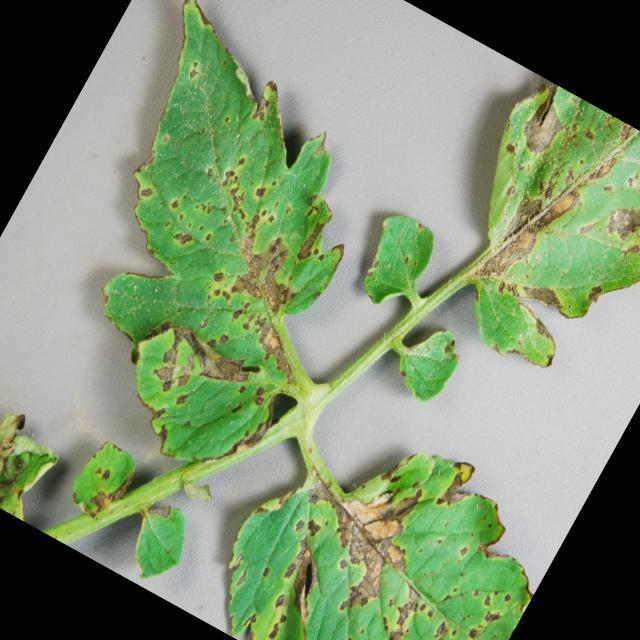Tomato Septoria spot leaf: (0, 0, 446, 503), (190, 367, 580, 640), (400, 70, 640, 414), (346, 204, 448, 318), (58, 431, 148, 533), (114, 492, 204, 593), (384, 317, 471, 413)
